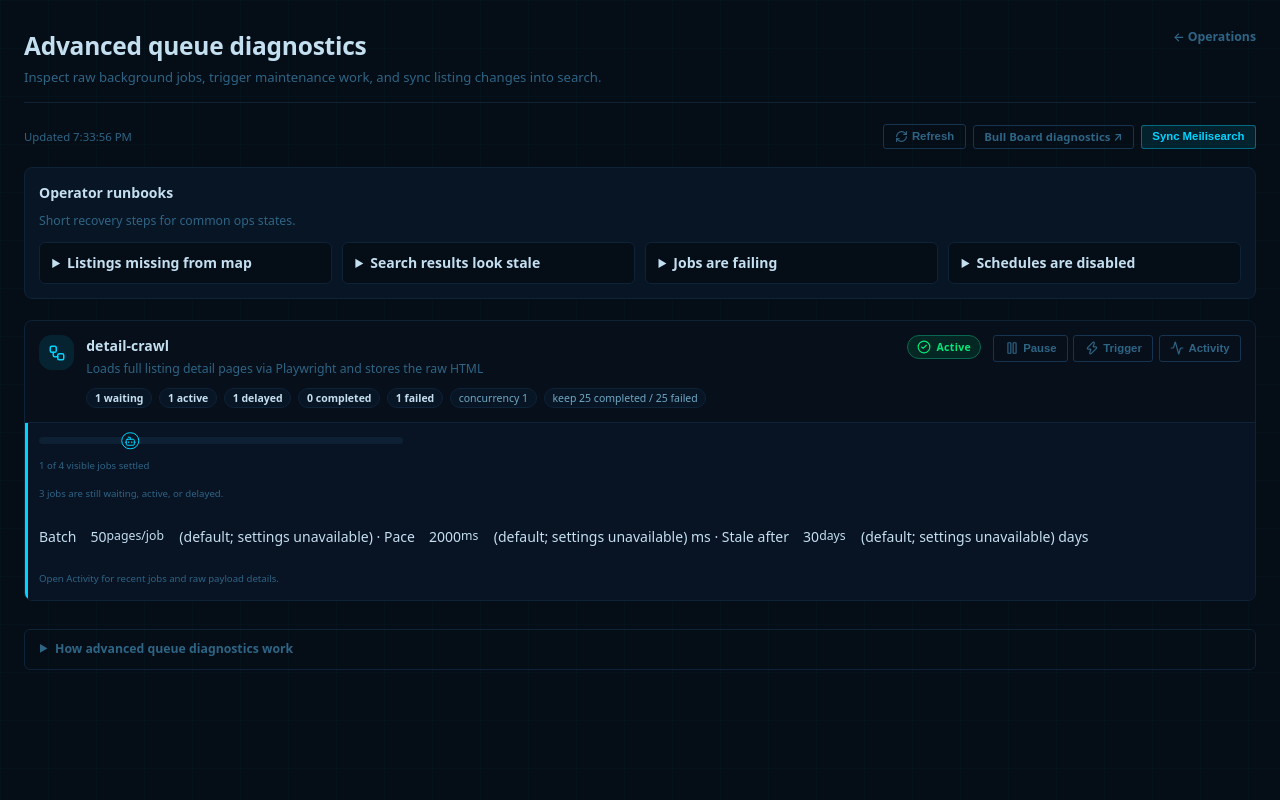
Test: QueuesClient per-job controls (#1152) › shows only the buttons that fit each job state
The image size is (1280, 800).
Step 1. Click the button "Activity" → x=1200, y=348, box top-left (1159, 335), bottom-right (1241, 362)
(page scrolled)
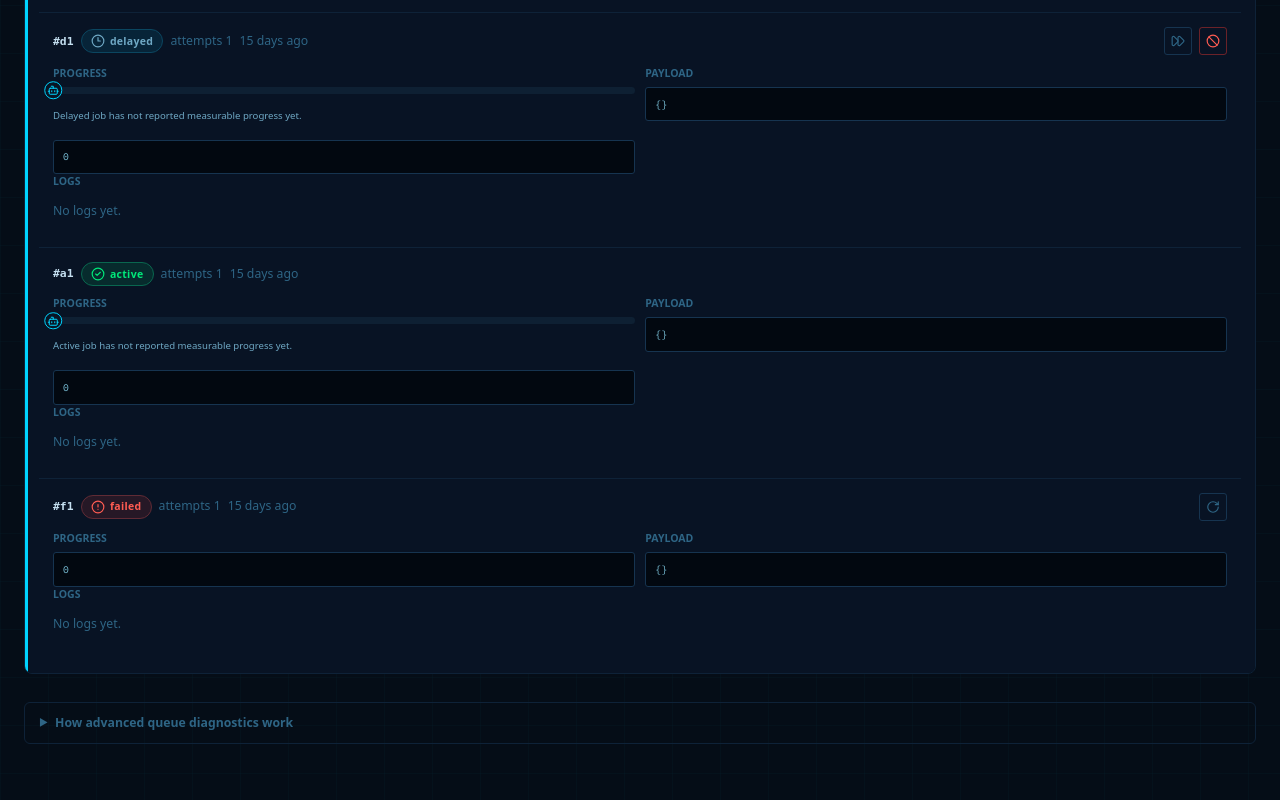
Expected: the button named "Cancel job #d1" is shown, top-left (1199, 27), bottom-right (1227, 55)
Expected: the button named "Make job #d1 ready now" is shown, top-left (1164, 27), bottom-right (1192, 55)
Expected: the button named "Retry job #f1" is shown, top-left (1199, 493), bottom-right (1227, 521)
